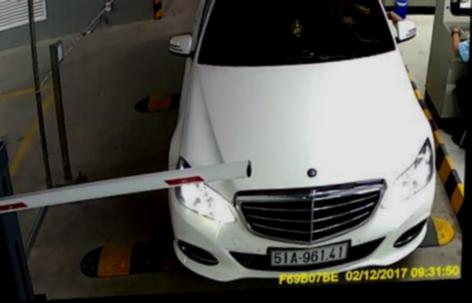License_Plate: (268, 237, 350, 271)
